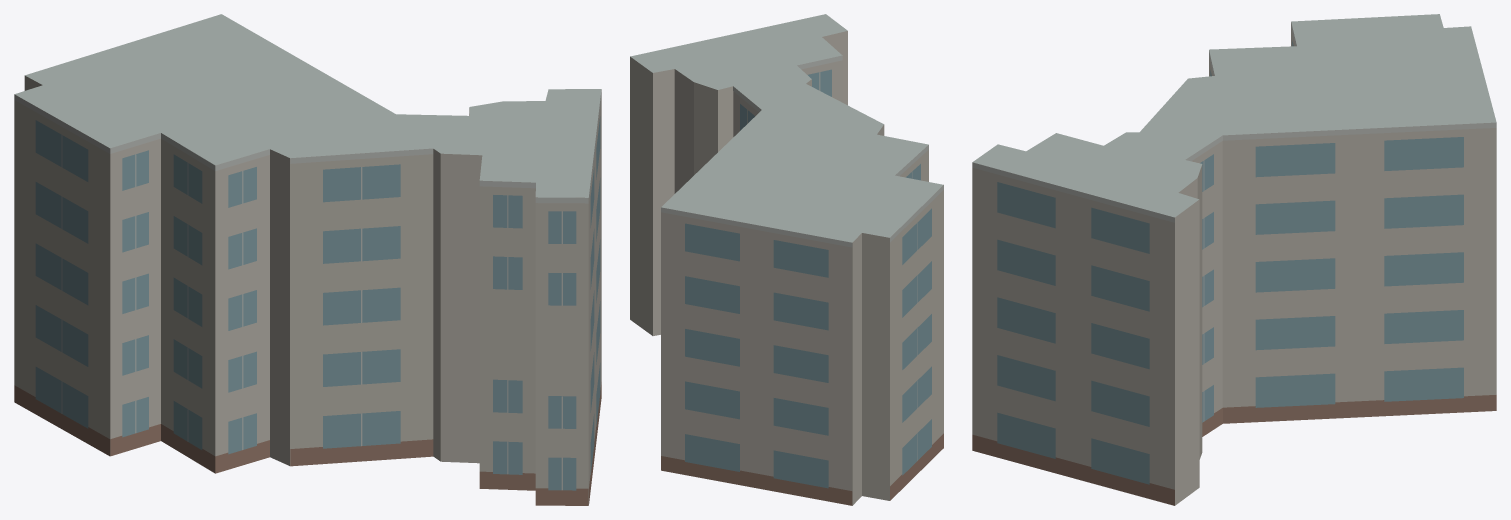
File: survey-upis-32779673.glb
The picture shows the model from 3 angles, left to right: view 1: azimuth 30°, elevation 25°; view 2: azimuth 150°, elevation 25°; view 3: azimuth 270°, elevation 25°; orthographic projection. The views are drawn at different scales.
Visible parts, largest first — view 1: survey-upis-32779673.tmp; view 2: survey-upis-32779673.tmp; view 3: survey-upis-32779673.tmp.
Part boxes in pixels (box(x1,y1,x2,y2)): survey-upis-32779673.tmp: box(14, 14, 601, 505); survey-upis-32779673.tmp: box(630, 14, 943, 505); survey-upis-32779673.tmp: box(972, 14, 1496, 505).
Bounding box in the file's own units: 19.99 × 13.2 × 21.77.
